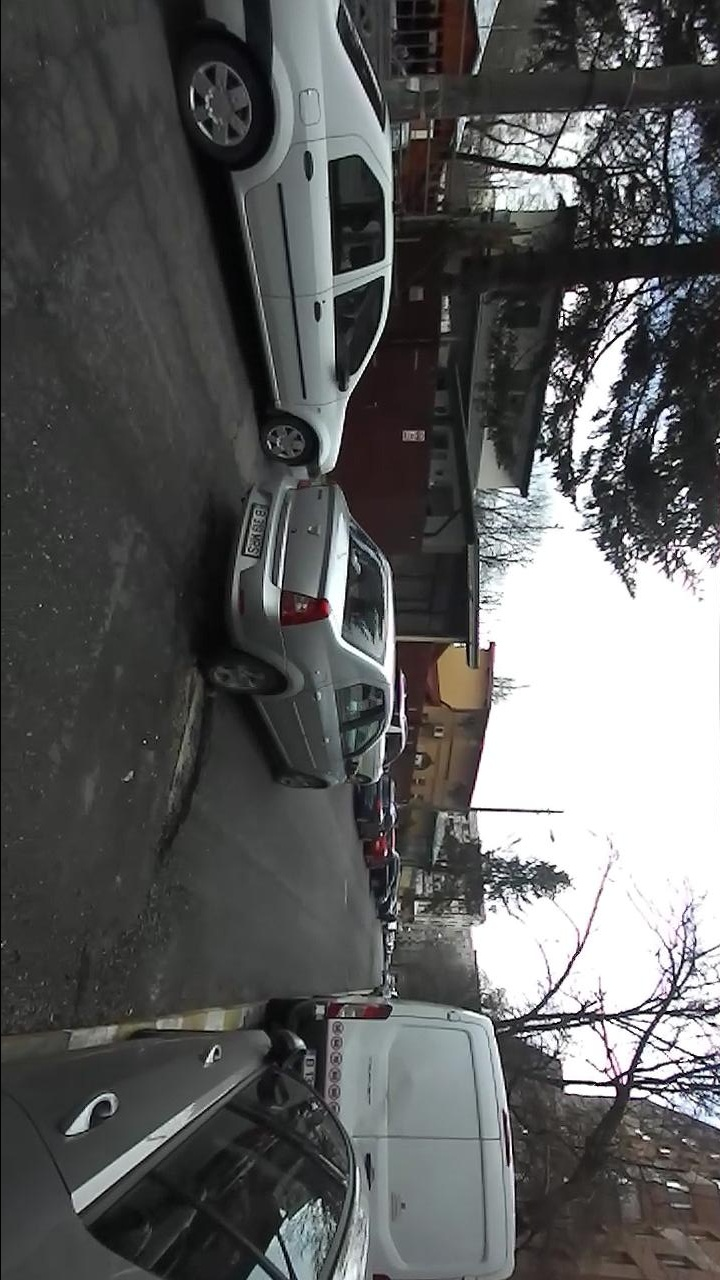pothole: (152, 657, 210, 870), (191, 485, 217, 562)
